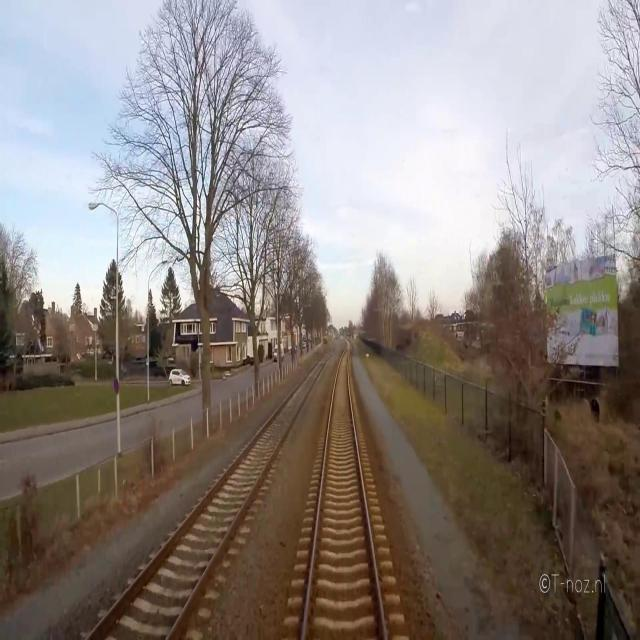rail-track: (91, 350, 330, 639), (307, 345, 382, 639)
